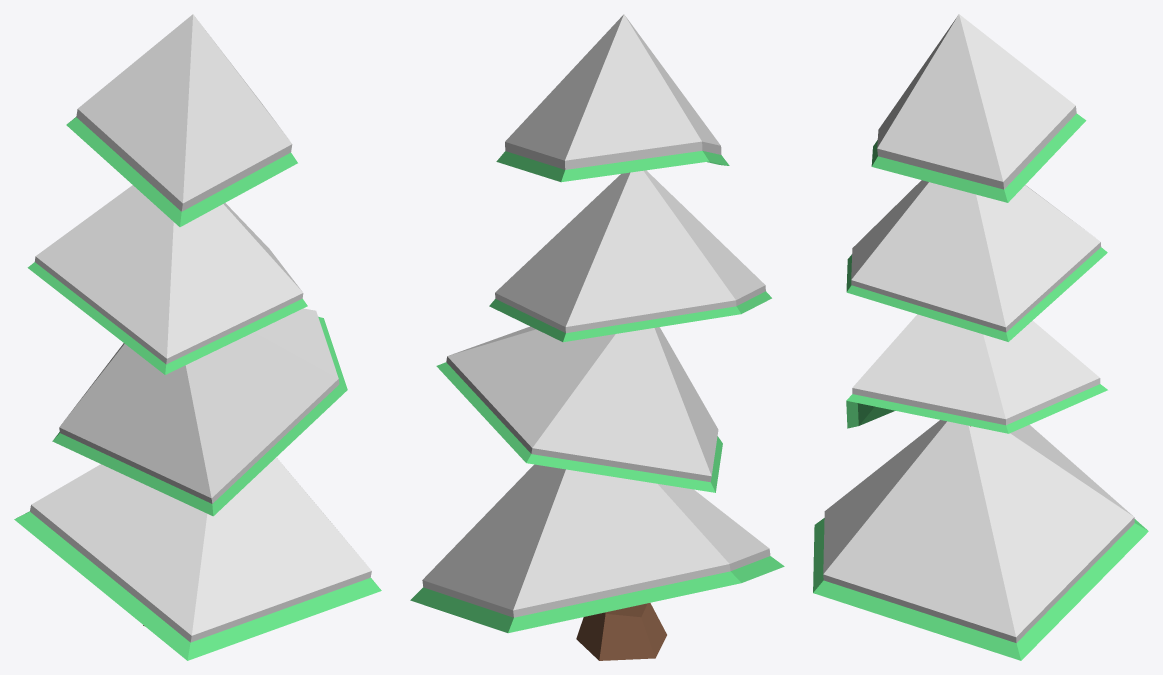
Rendered from pine_tree_snow.fbx.
3 renders of one model, left to right at view 1: azimuth 30°, elevation 25°; view 2: azimuth 150°, elevation 25°; view 3: azimuth 270°, elevation 25°, orthographic. The views are drawn at different scales.
Visible parts, largest first — view 1: fir; view 2: fir; view 3: fir.
Boxes of the visible parts, box(x1,y1,x2,y2) form: fir: box(14, 14, 381, 660); fir: box(410, 14, 784, 660); fir: box(813, 14, 1148, 660).
Size of the model in its own units: 328 by 593 by 309.
